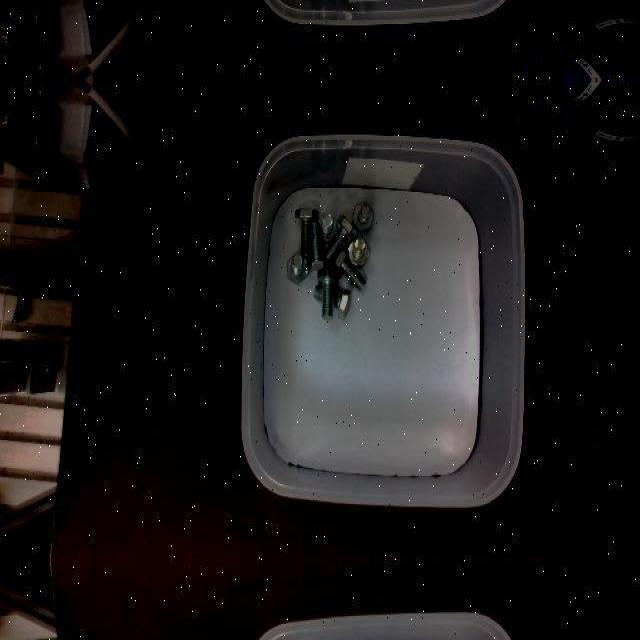screw: (294, 207, 318, 257), (317, 267, 339, 321), (287, 253, 308, 283), (349, 236, 370, 266), (352, 202, 373, 230)
